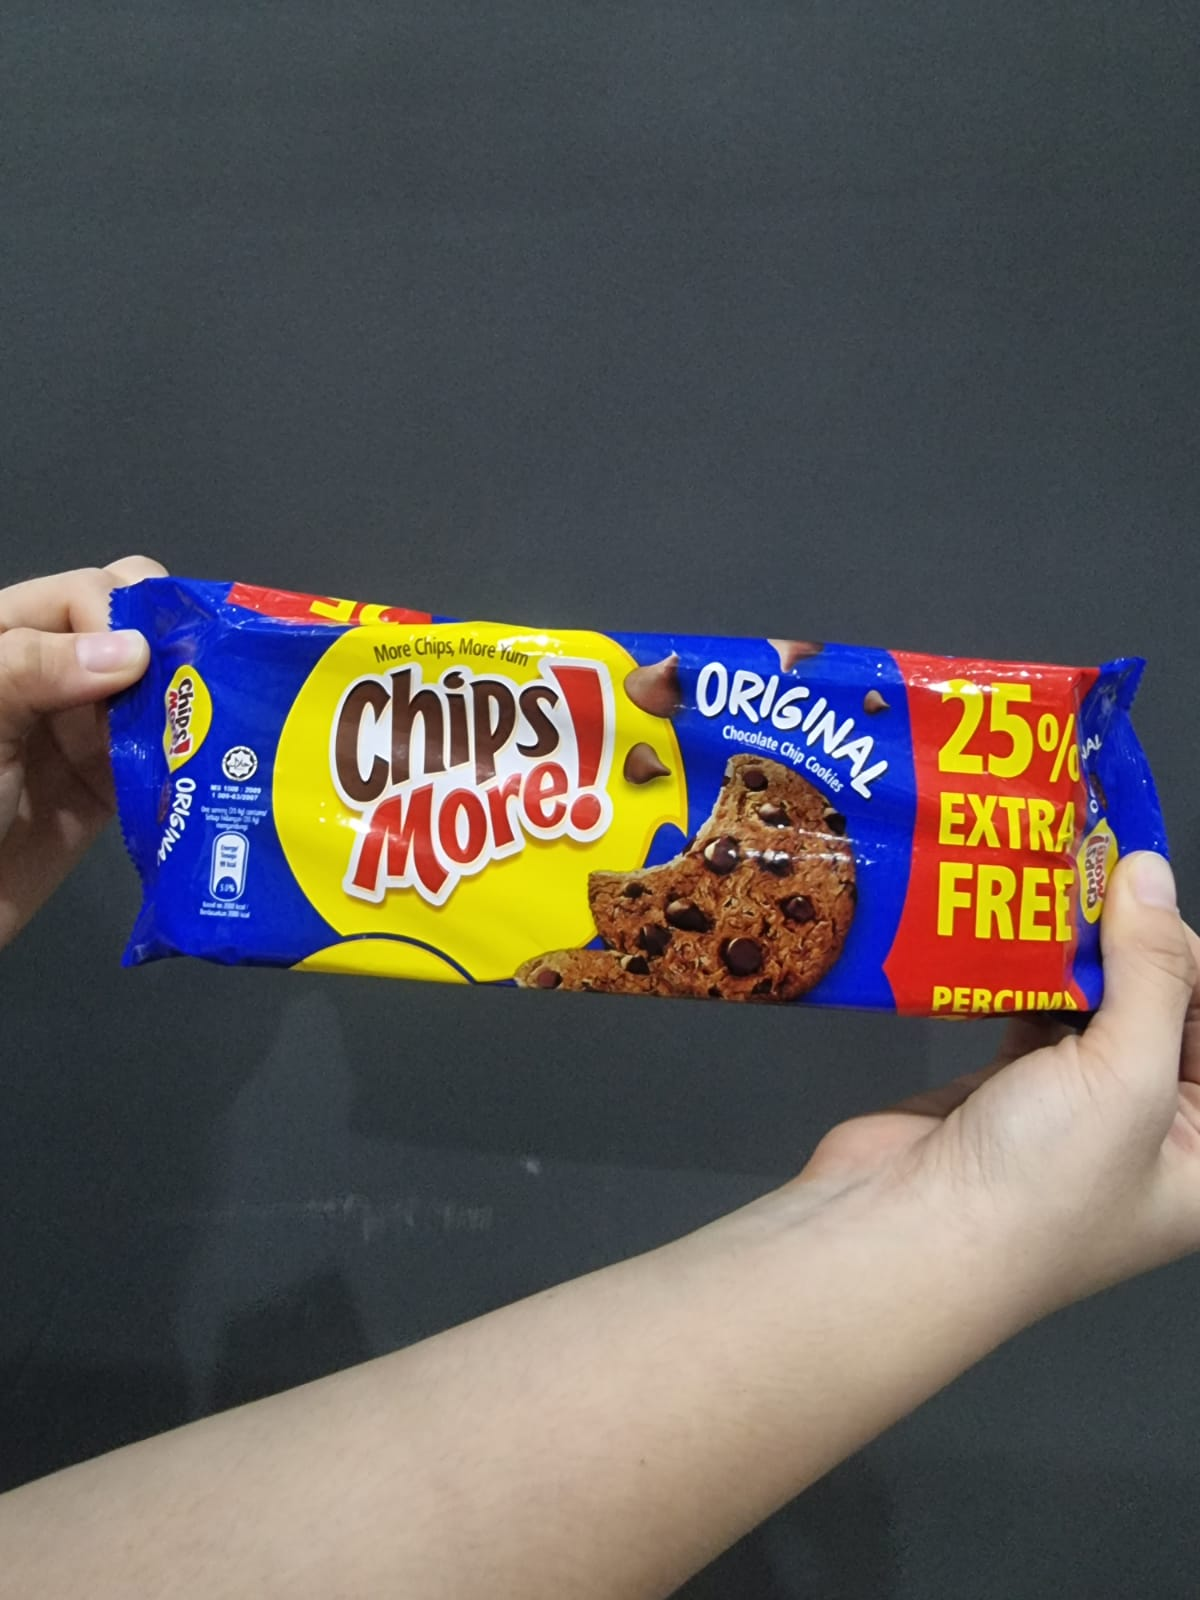Halal: (216, 743, 256, 780)
